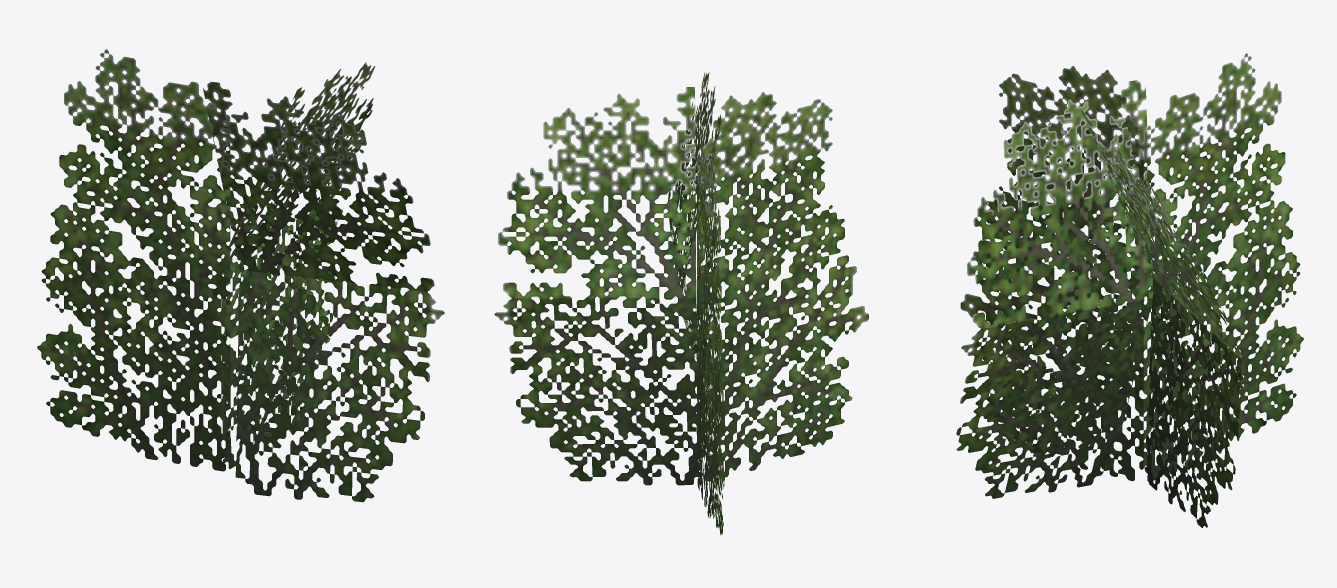
The model's file is hazelnut_bush_2.obj.
The picture shows the model from 3 angles, left to right: view 1: azimuth 30°, elevation 25°; view 2: azimuth 150°, elevation 25°; view 3: azimuth 270°, elevation 25°; orthographic projection. The views are drawn at different scales.
Parts seen in each view (by area): view 1: plane; view 2: plane; view 3: plane.
Part boxes in pixels (x1,y1,x2,y2): plane: (37, 49, 444, 502); plane: (494, 72, 868, 535); plane: (956, 53, 1303, 527).
Size of the model in its own units: 2.47 by 2.92 by 2.58.
